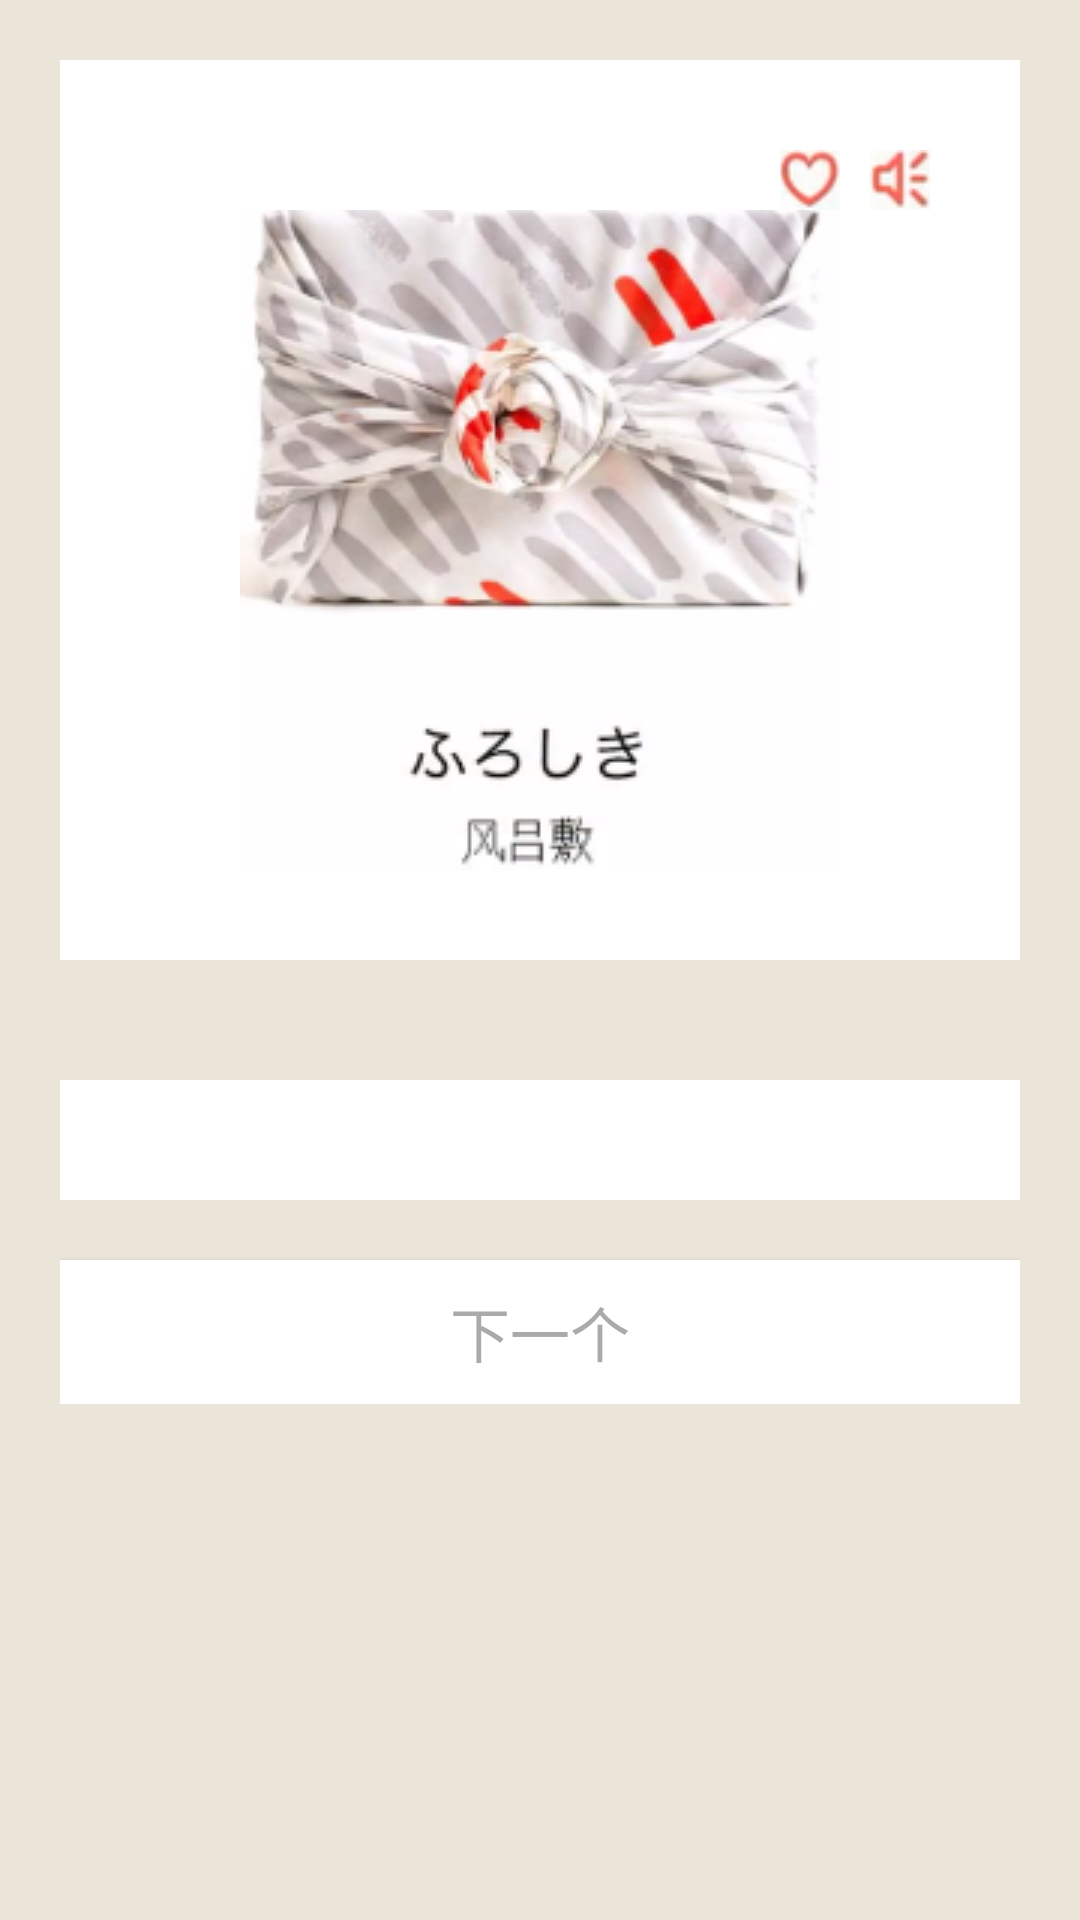

Icons on this 1080px×1920px Android screen, each with its box as (x1, y1, x2, y2):
like: (780, 150, 840, 208)
sounds: (870, 150, 930, 208)
